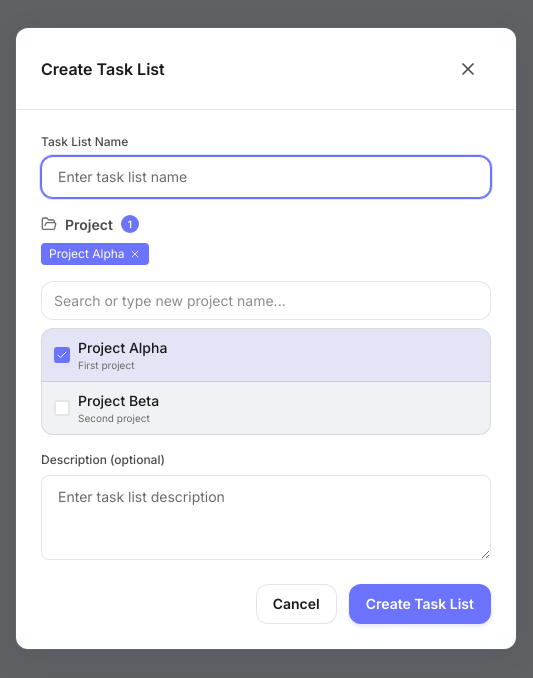
it: CreateTaskListModal › Form Submission › shows error message when creation fails
Expected: the radio button labelled "Project Alpha First project" is shown, 42,328 -> 490,382
Type "Test Task List" into the field with placeholder "Enter task list name" at (266, 176), box 41,156 -> 491,198
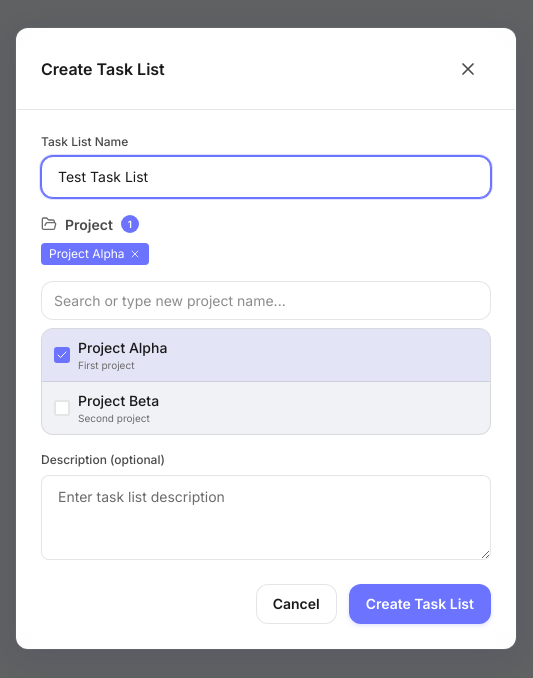
Click the button "Create Task List" at (420, 604), box 349,584 -> 491,624
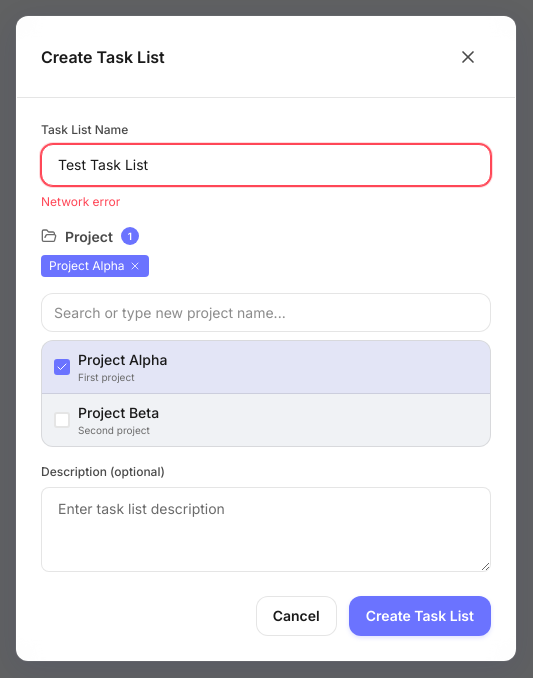
Expected: the text "Network error" is shown, 41,194 -> 120,208
